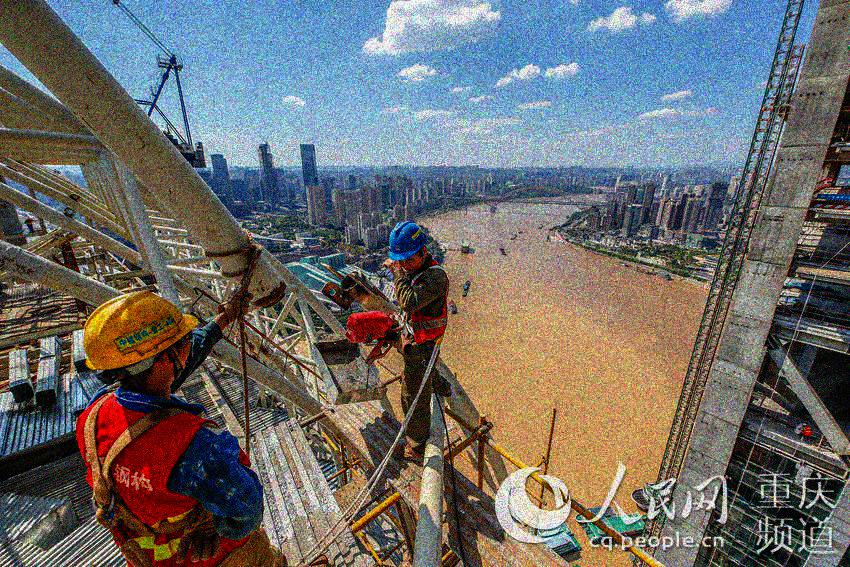helmet: (82, 291, 200, 392), (386, 220, 429, 272)
